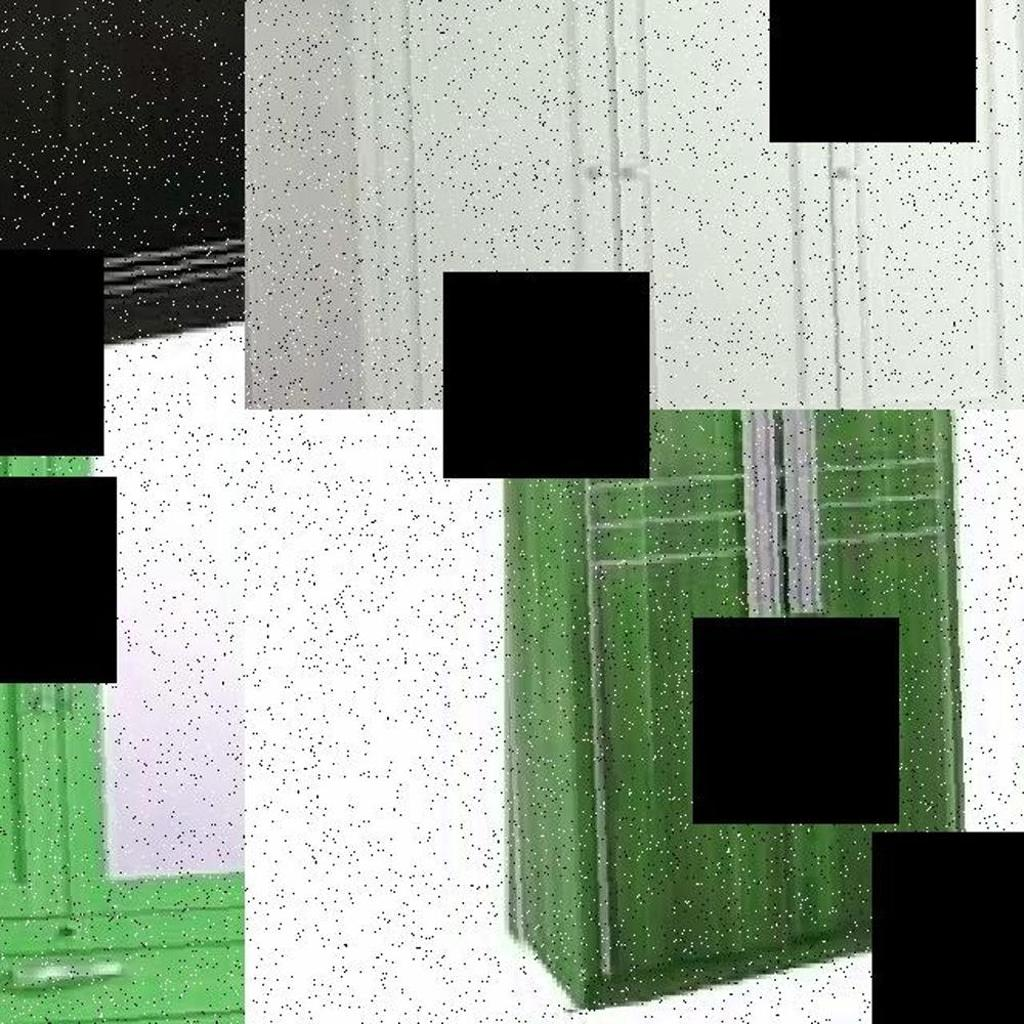cabinet: (245, 0, 1024, 410), (494, 410, 973, 1008), (0, 410, 245, 1024), (0, 0, 245, 410)
